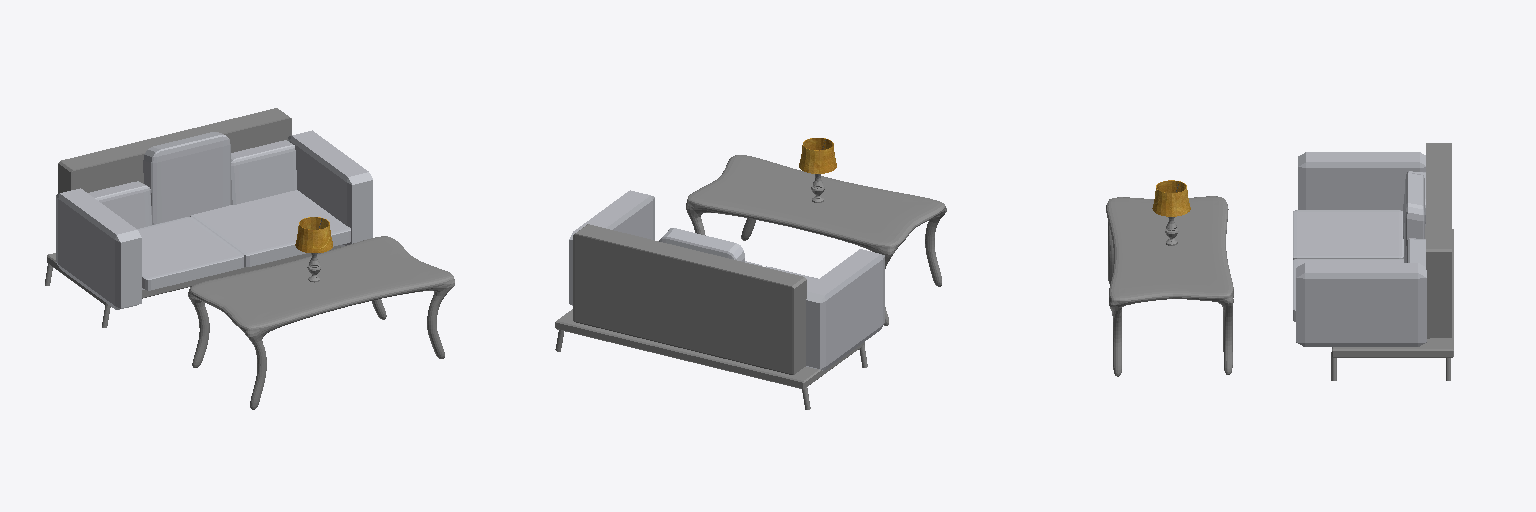
The picture shows the model from 3 angles: view 1: azimuth 30°, elevation 25°; view 2: azimuth 150°, elevation 25°; view 3: azimuth 270°, elevation 25°; orthographic projection.
Parts seen in each view (by area): view 1: Cube_010_Cube_002, Cube_003_Cube_005, Cube_009_Cube_014, Cube_004, Cube_006_Cube_010, Cube_001, Cube_005_Cube_011, Cube_008_Cube_013, Cube_007_Cube_012, Cube, c_low_Untitled_021; view 2: Cube_004, Cube_010_Cube_002, Cube_003_Cube_005, Cube, Cube_001, Cube_009_Cube_014, c_low_Untitled_021; view 3: Cube_010_Cube_002, Cube_001, Cube_003_Cube_005, Cube_005_Cube_011, Cube_004, Cube, Cube_009_Cube_014, c_low_Untitled_021, Cube_006_Cube_010.
Boxes of the visible parts, box(x1,y1,x2,y2) form: Cube_010_Cube_002: box(188, 236, 454, 409); Cube_003_Cube_005: box(56, 188, 141, 309); Cube_009_Cube_014: box(143, 132, 230, 224); Cube_004: box(58, 108, 291, 193); Cube_006_Cube_010: box(190, 190, 350, 266); Cube_001: box(288, 130, 372, 246); Cube_005_Cube_011: box(137, 217, 243, 290); Cube_008_Cube_013: box(231, 140, 296, 204); Cube_007_Cube_012: box(88, 181, 151, 228); Cube: box(47, 245, 340, 305); c_low_Untitled_021: box(295, 217, 332, 252); Cube_004: box(573, 224, 806, 374); Cube_010_Cube_002: box(686, 155, 946, 325); Cube_003_Cube_005: box(806, 249, 884, 370); Cube: box(555, 309, 864, 389); Cube_001: box(569, 190, 654, 305); Cube_009_Cube_014: box(659, 228, 744, 261); c_low_Untitled_021: box(799, 138, 836, 173); Cube_010_Cube_002: box(1106, 196, 1233, 376); Cube_001: box(1296, 263, 1426, 346); Cube_003_Cube_005: box(1298, 152, 1425, 225); Cube_005_Cube_011: box(1293, 210, 1403, 259); Cube_004: box(1426, 143, 1451, 337); Cube: box(1332, 226, 1453, 357); Cube_009_Cube_014: box(1404, 172, 1424, 262); c_low_Untitled_021: box(1152, 180, 1190, 216); Cube_006_Cube_010: box(1293, 259, 1403, 321).
Size of the model in its own units: 1.91 by 1.01 by 2.24.
8 materials, 1 textured.